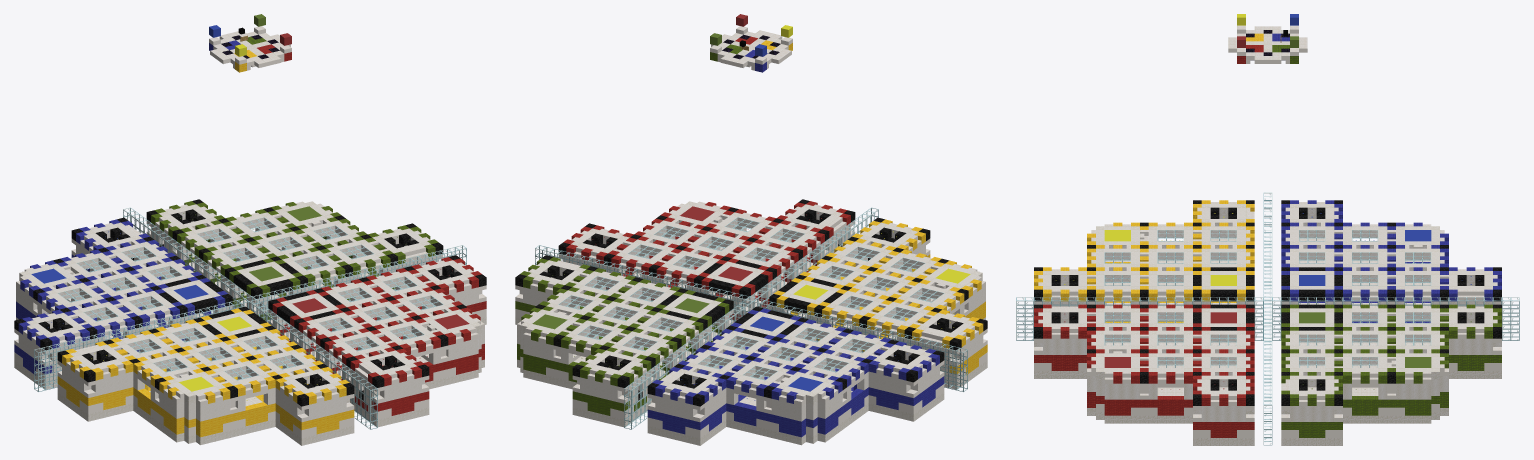
The model's file is minecraft.obj.
The picture shows the model from 3 angles, left to right: view 1: azimuth 30°, elevation 25°; view 2: azimuth 150°, elevation 25°; view 3: azimuth 270°, elevation 25°; orthographic projection.
Size of the model in its own units: 57 by 40 by 57.
